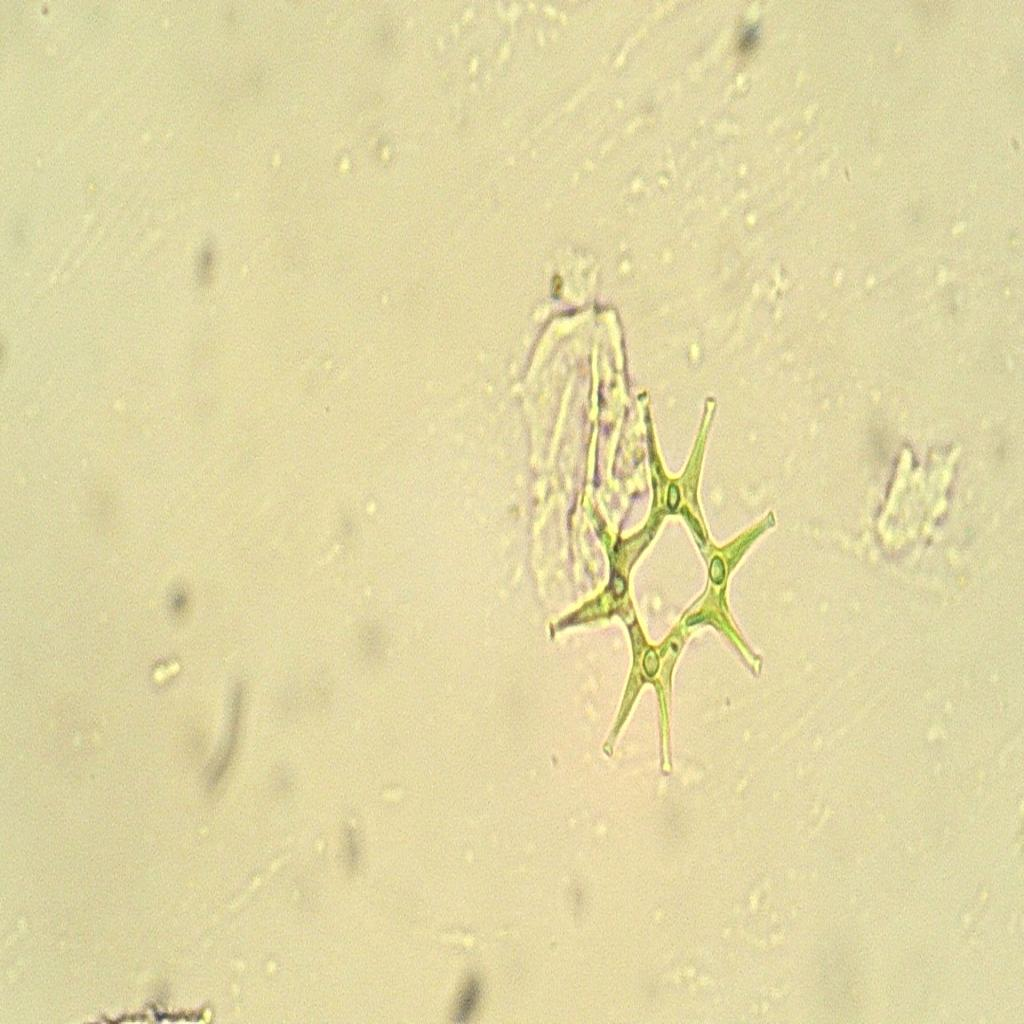Pediastrum_10: (540, 354, 785, 800)
